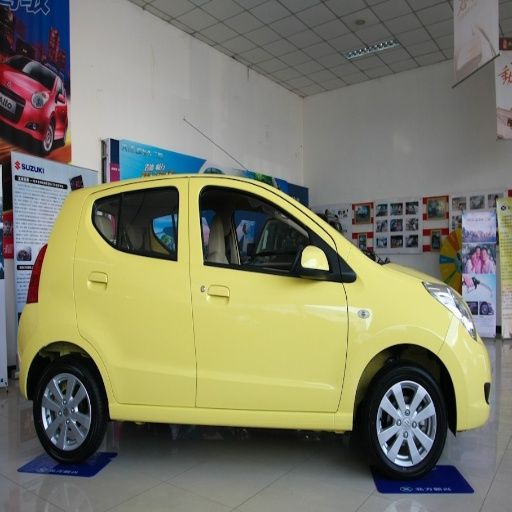back_right_door: (80, 180, 195, 404)
front_right_door: (190, 182, 349, 411)
